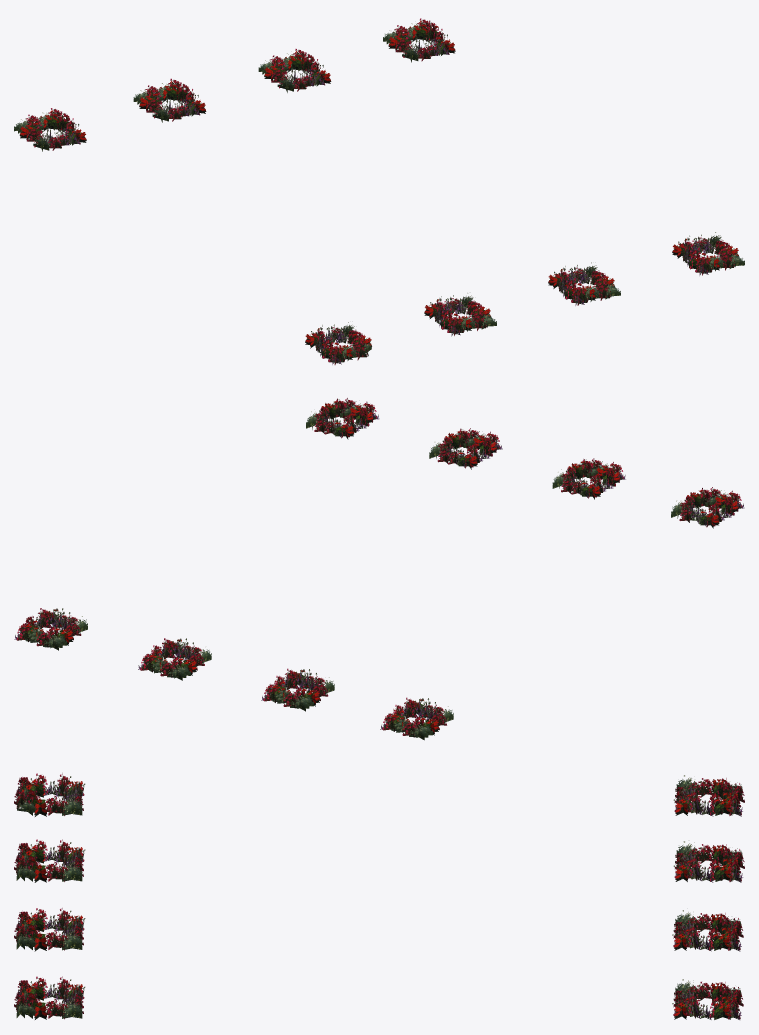
Rendered from bush02_lvs.obj.
3 views of the same model, one above another, from view 1: azimuth 30°, elevation 25°; view 2: azimuth 150°, elevation 25°; view 3: azimuth 270°, elevation 25° (orthographic). The views are drawn at different scales.
Parts seen in each view (by area): view 1: bush02_lvs; view 2: bush02_lvs; view 3: bush02_lvs.
Boxes of the visible parts, box(x1,y1,x2,y2) form: bush02_lvs: box(14, 18, 744, 364); bush02_lvs: box(14, 398, 744, 740); bush02_lvs: box(14, 773, 744, 1019).
Size of the model in its own units: 34 by 1.53 by 45.57.
4 materials, 4 textured.
